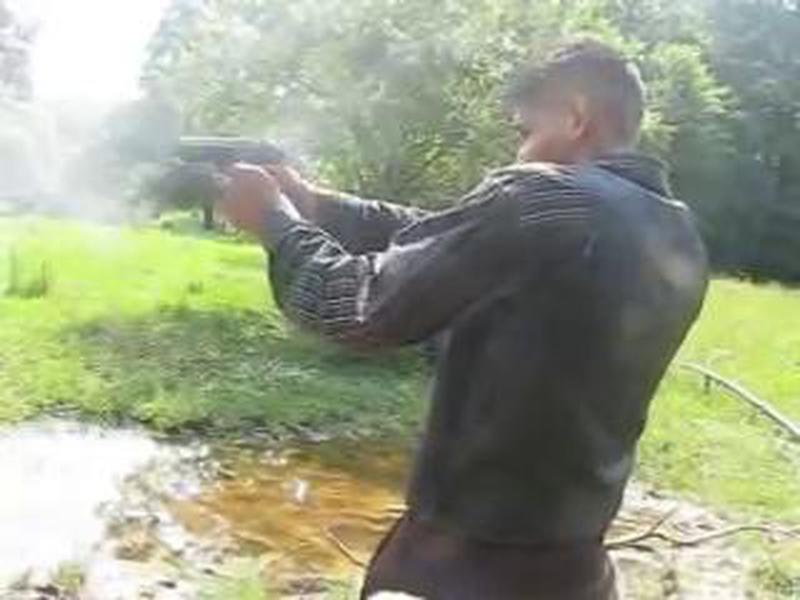Pistola: (167, 119, 297, 225)
